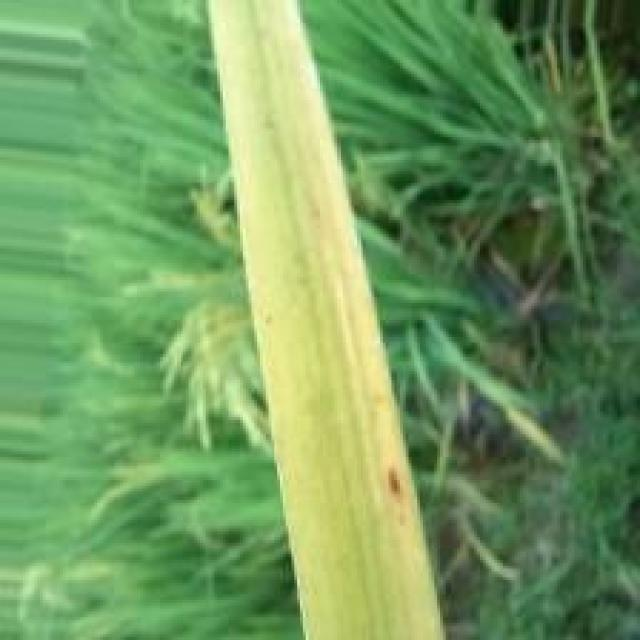Brown_Spot: (392, 470, 402, 494)
